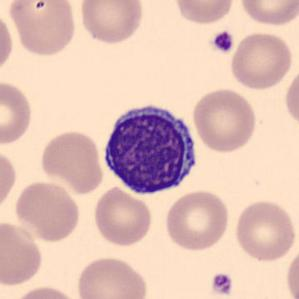Lymphocyte: (99, 96, 202, 199)
Platelets: (209, 271, 234, 298), (211, 29, 235, 54)
RBC: (190, 86, 258, 154), (162, 188, 232, 253), (12, 179, 83, 243), (38, 128, 105, 195), (6, 0, 78, 58), (233, 198, 297, 263), (228, 30, 294, 90), (92, 185, 154, 248), (74, 253, 150, 299), (77, 0, 146, 46), (0, 218, 45, 288), (0, 78, 35, 147), (172, 0, 237, 26), (238, 0, 298, 27), (0, 147, 18, 215), (8, 284, 83, 299), (283, 65, 299, 131), (0, 8, 15, 77), (284, 244, 299, 299)
